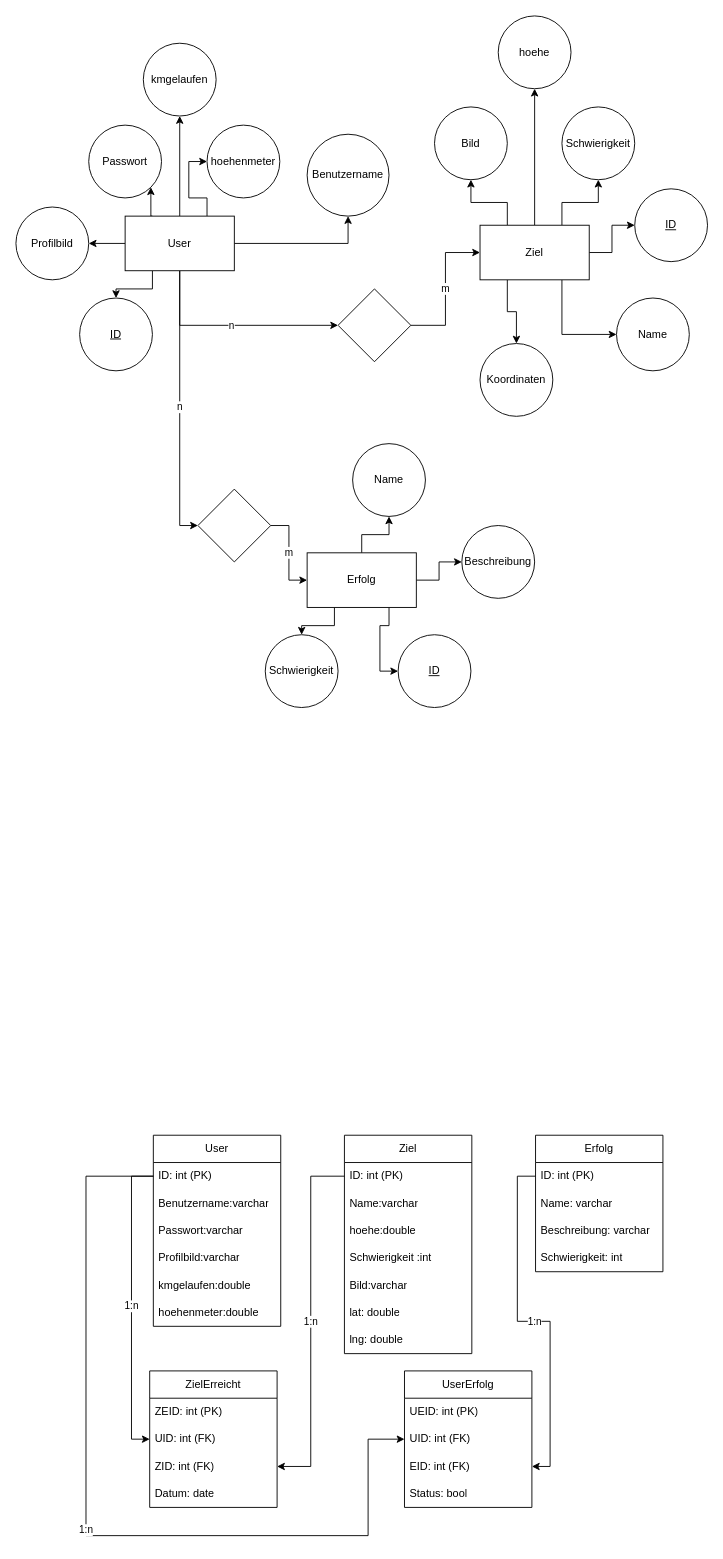
Image size: 723x1559. Some labels were removed from this diagram. The centre of each missing label's shape, as x and y in pixels:
"besteigt" belongs at (x=374, y=325).
"freischalten" belongs at (x=234, y=525).
